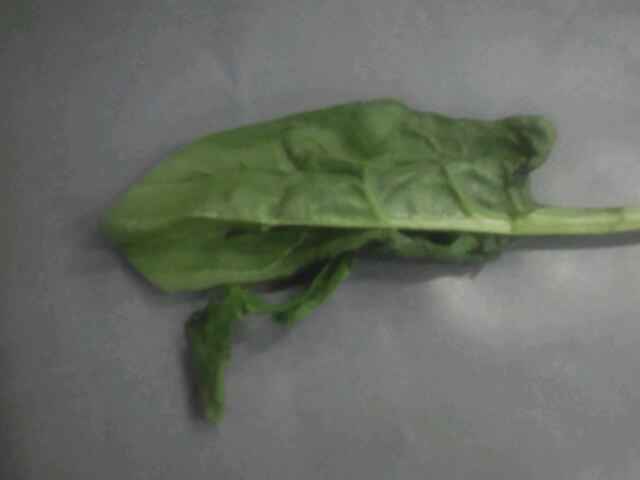yellow: (67, 67, 602, 395)
